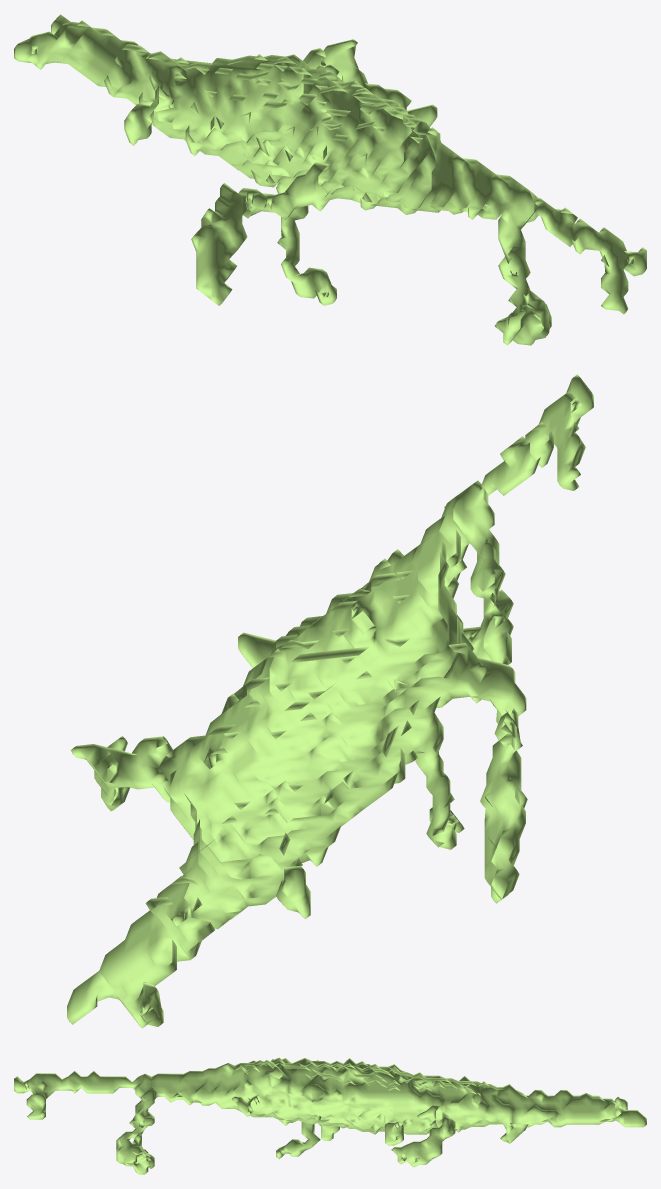
The model's file is osteocyte_23.glb.
3 renders of one model, top to bottom at view 1: azimuth 30°, elevation 25°; view 2: azimuth 150°, elevation 25°; view 3: azimuth 270°, elevation 25°, orthographic. The views are drawn at different scales.
Visible parts, largest first — view 1: osteocyte_23; view 2: osteocyte_23; view 3: osteocyte_23.
Part boxes in pixels (x1,y1,x2,y2): osteocyte_23: (14,14,646,345); osteocyte_23: (67,374,593,1028); osteocyte_23: (14,1057,646,1174).
Size of the model in its own units: 13.41 by 9.39 by 44.26.
